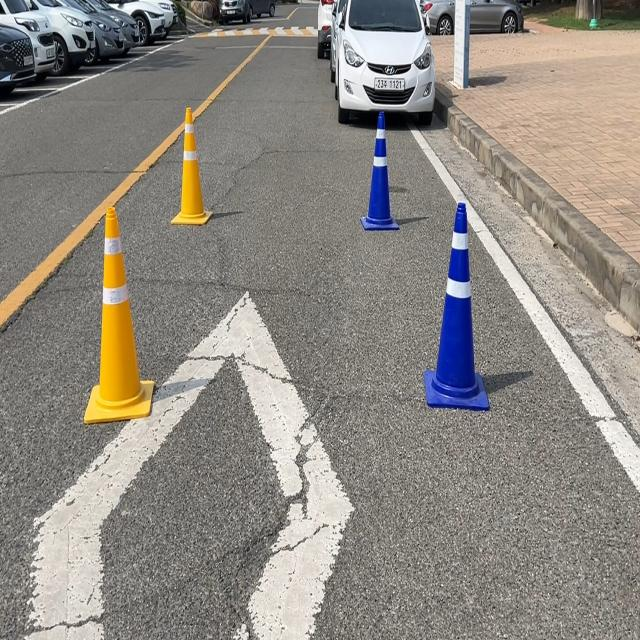b_rub: (425, 201, 490, 410), (361, 110, 399, 229)
y_rub: (83, 206, 153, 423), (171, 105, 211, 224)
